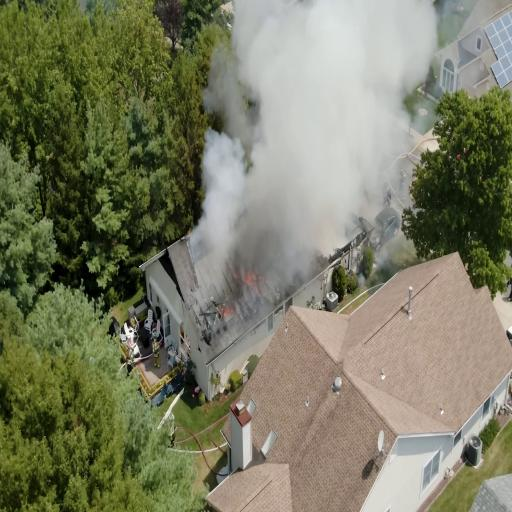smoke: (236, 7, 351, 259), (280, 0, 406, 179), (191, 121, 252, 276)
